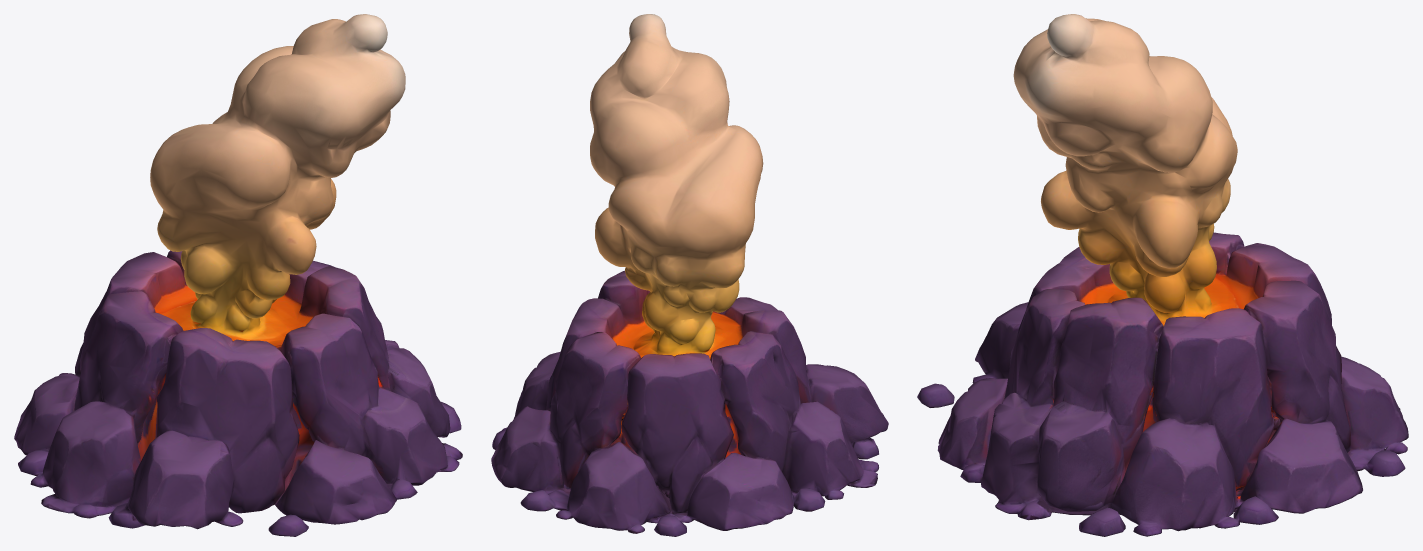
Rendered from roca_volcanica.glb.
3 renders of one model, left to right at view 1: azimuth 30°, elevation 25°; view 2: azimuth 150°, elevation 25°; view 3: azimuth 270°, elevation 25°, orthographic. The views are drawn at different scales.
Visible parts, largest first — view 1: roca_volcanica; view 2: roca_volcanica; view 3: roca_volcanica.
Boxes of the visible parts, left/top/right/bottom form: roca_volcanica: left=14, top=14, right=462, bottom=536; roca_volcanica: left=491, top=14, right=888, bottom=536; roca_volcanica: left=917, top=14, right=1408, bottom=536.
Size of what is drawn, in the model's own units: 1.89 by 2 by 1.91.
Materials: 1 (1 with a texture image).
